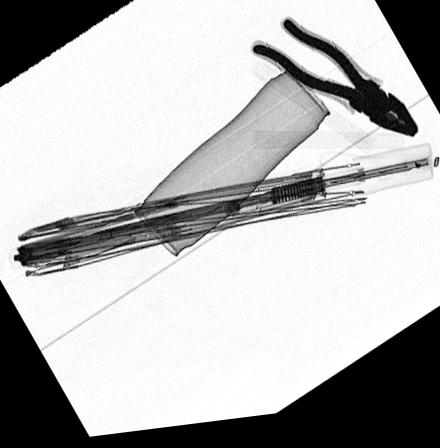Pliers: (251, 24, 423, 152)
